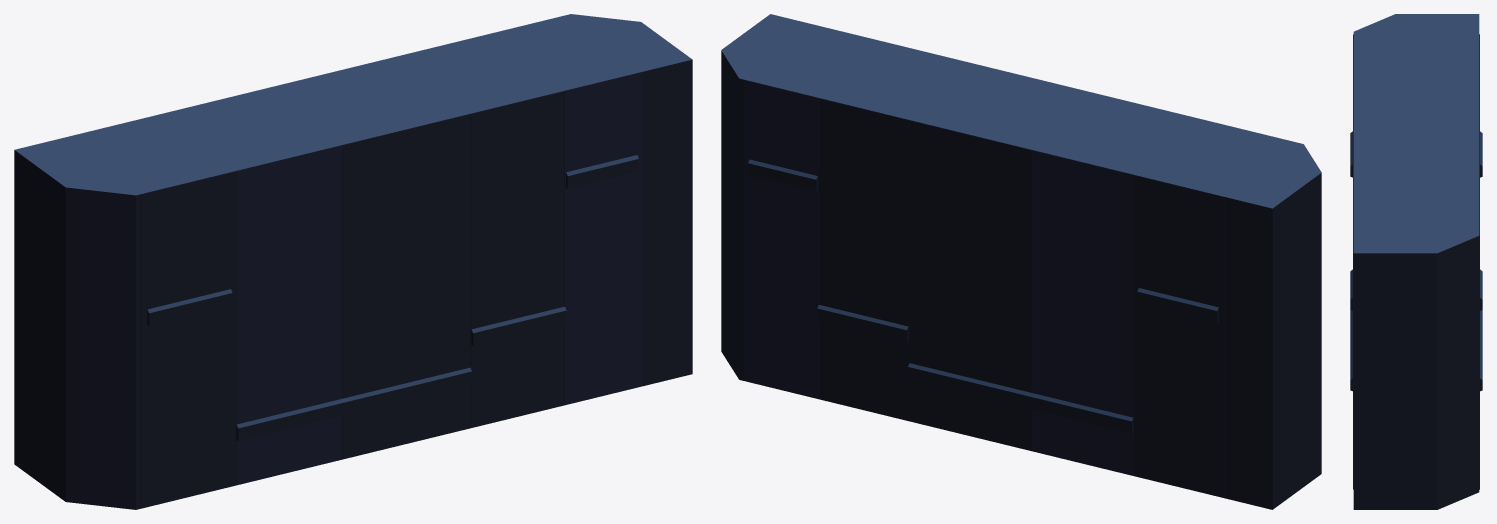
File: maze-wall.glb
3 views of the same model, side by side, from view 1: azimuth 30°, elevation 25°; view 2: azimuth 150°, elevation 25°; view 3: azimuth 270°, elevation 25° (orthographic). The views are drawn at different scales.
Visible parts, largest first — view 1: Clipped slab, front vertical face 3, front vertical face 2, front vertical face 1, front vertical face 4, front vertical face 5, front stepped ledge 1, front stepped ledge 2, front stepped ledge 3, front stepped ledge 4; view 2: Clipped slab, back vertical face 3, back vertical face 2, back vertical face 1, back vertical face 4, back vertical face 5, back stepped ledge 1, back stepped ledge 2, back stepped ledge 3, back stepped ledge 4; view 3: Clipped slab, back vertical face 5, front vertical face 5.
Part boxes in pixels (left/top/right/bottom): Clipped slab: left=14, top=14, right=692, bottom=509; front vertical face 3: left=342, top=114, right=469, bottom=459; front vertical face 2: left=236, top=145, right=341, bottom=485; front vertical face 1: left=141, top=171, right=236, bottom=508; front vertical face 4: left=470, top=91, right=564, bottom=428; front vertical face 5: left=564, top=72, right=642, bottom=404; front stepped ledge 1: left=236, top=367, right=471, bottom=440; front stepped ledge 2: left=471, top=306, right=566, bottom=345; front stepped ledge 3: left=147, top=289, right=232, bottom=325; front stepped ledge 4: left=566, top=155, right=638, bottom=188; Clipped slab: left=721, top=14, right=1321, bottom=509; back vertical face 3: left=909, top=120, right=1032, bottom=450; back vertical face 2: left=1032, top=150, right=1133, bottom=475; back vertical face 1: left=1133, top=175, right=1224, bottom=497; back vertical face 4: left=819, top=98, right=909, bottom=421; back vertical face 5: left=744, top=80, right=818, bottom=398; back stepped ledge 1: left=908, top=363, right=1133, bottom=433; back stepped ledge 2: left=817, top=305, right=908, bottom=342; back stepped ledge 3: left=1137, top=288, right=1218, bottom=322; back stepped ledge 4: left=748, top=159, right=817, bottom=191; Clipped slab: left=1353, top=14, right=1479, bottom=509; back vertical face 5: left=1479, top=202, right=1479, bottom=489; front vertical face 5: left=1353, top=202, right=1353, bottom=489.
Size of the model in its own units: 108 by 54 by 25.28.
